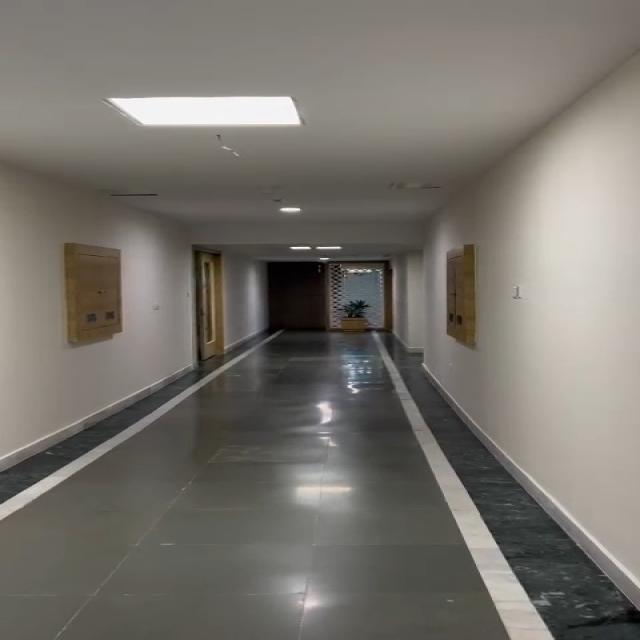door: (194, 242, 226, 358)
floor: (0, 456, 603, 640), (254, 331, 398, 462)
furniture: (336, 295, 376, 337)
wall: (463, 169, 640, 437), (0, 173, 73, 429), (120, 210, 195, 361), (390, 260, 452, 352), (227, 252, 266, 330)
